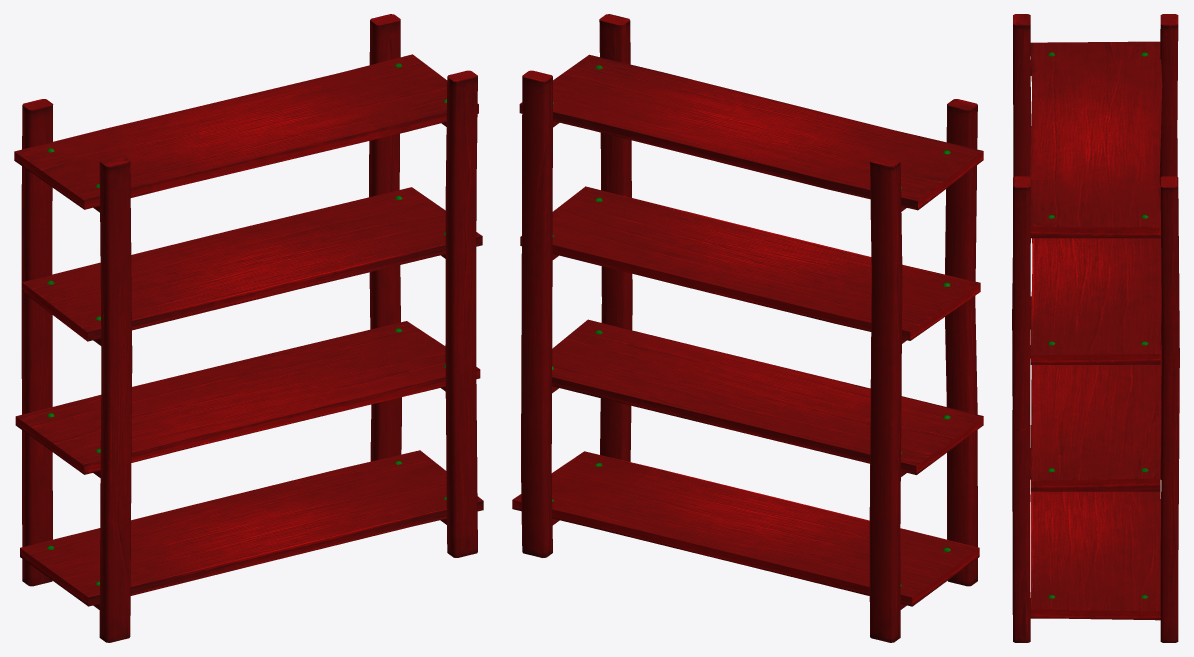
Rendered from Rack01.fbx.
3 renders of one model, left to right at view 1: azimuth 30°, elevation 25°; view 2: azimuth 150°, elevation 25°; view 3: azimuth 270°, elevation 25°, orthographic. The views are drawn at different scales.
Visible parts, largest first — view 1: Rack01_LOD0; view 2: Rack01_LOD0; view 3: Rack01_LOD0.
Part boxes in pixels (left/top/right/bottom): Rack01_LOD0: left=14, top=14, right=483, bottom=642; Rack01_LOD0: left=512, top=14, right=983, bottom=642; Rack01_LOD0: left=1012, top=14, right=1179, bottom=642.
Size of what is drawn, in the model's own units: 1.76 by 1.97 by 0.6591.
